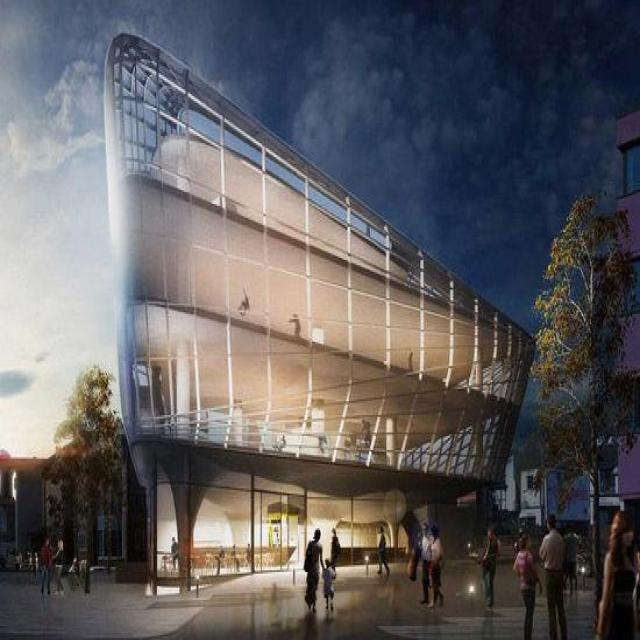non-fight: (591, 492, 639, 638), (538, 509, 574, 638), (511, 530, 542, 638), (299, 525, 327, 638), (468, 525, 499, 609), (420, 520, 433, 607)
